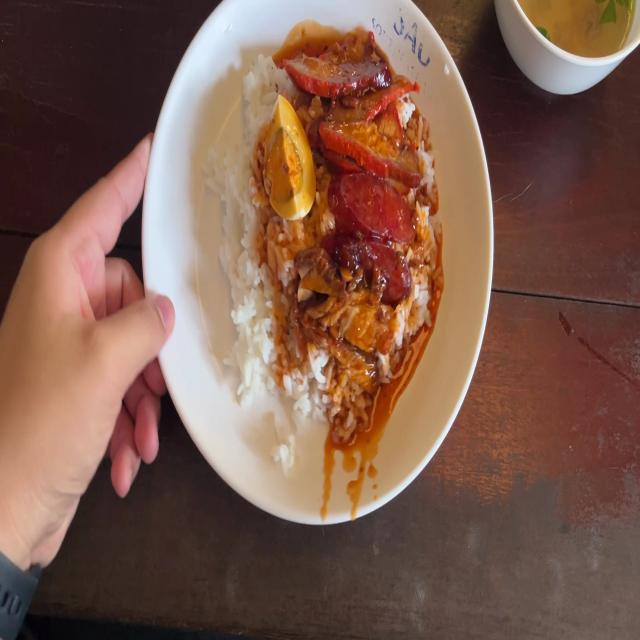red_pork_and_crispy_pork: (269, 100, 312, 222)
stir_fried_basil: (337, 178, 423, 287)
